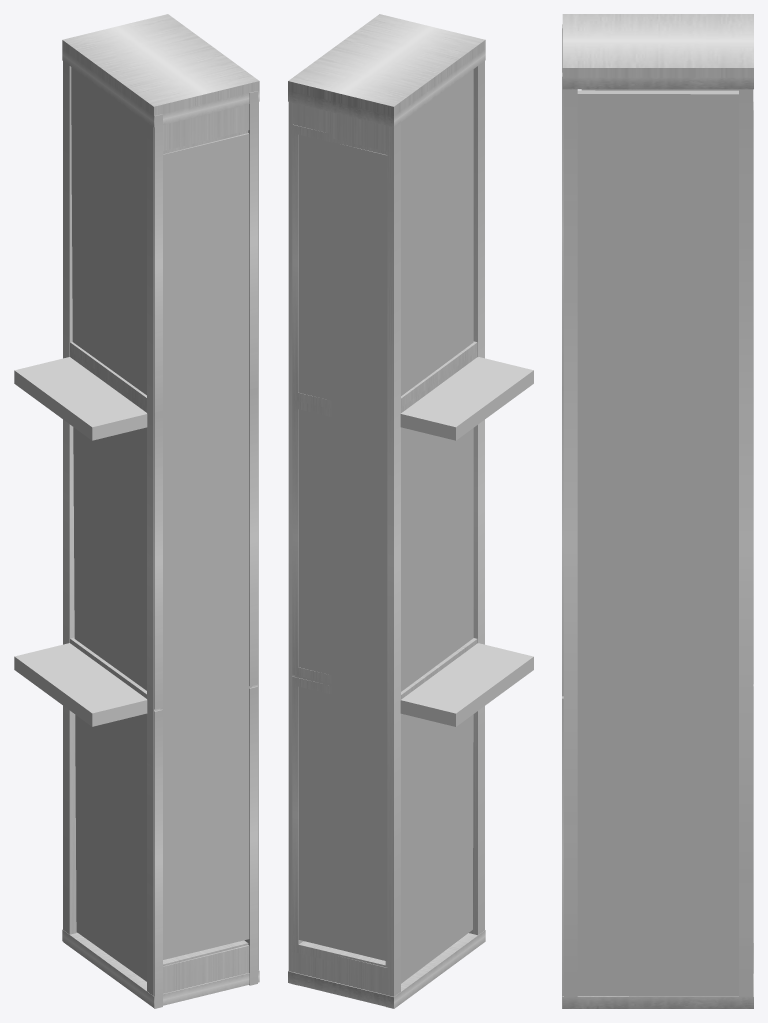
File: morris-shaft.glb
The picture shows the model from 3 angles, left to right: view 1: azimuth 30°, elevation 25°; view 2: azimuth 150°, elevation 25°; view 3: azimuth 270°, elevation 25°; orthographic projection. The views are drawn at different scales.
Parts seen in each view (by area): view 1: walls.001, frontcover, wallframe.001, ceiling.001, platform 2, Platform, backside-frame.011, backside-frame.010, floor.001, backside-frame.012, backside-frame.001, backside-frame.002 (+2 smaller); view 2: walls.001, frontcover, wallframe.001, ceiling.001, Platform, platform 2, floor.001, backside-frame.006, backside-frame.004, backside-frame.005, backside-frame.011, backside-frame.010; view 3: backside-wall.001, wallframe.001, ceiling.001, floor.001, backside-frame.002, backside-frame.001, backside-frame.003.
Boxes of the visible parts, x1,y1,x2,y2 form: walls.001: [160, 133, 252, 959]; frontcover: [71, 67, 146, 981]; wallframe.001: [63, 61, 258, 995]; ceiling.001: [62, 14, 259, 127]; platform 2: [14, 357, 147, 440]; Platform: [14, 643, 147, 726]; backside-frame.011: [70, 352, 162, 709]; backside-frame.010: [70, 114, 162, 412]; floor.001: [62, 929, 259, 1007]; backside-frame.012: [63, 709, 162, 1008]; backside-frame.001: [248, 686, 257, 985]; backside-frame.002: [249, 387, 257, 686]; walls.001: [295, 135, 387, 961]; frontcover: [401, 69, 473, 983]; wallframe.001: [288, 61, 484, 996]; ceiling.001: [288, 14, 485, 127]; Platform: [400, 643, 533, 726]; platform 2: [400, 357, 533, 440]; floor.001: [288, 930, 485, 1008]; backside-frame.006: [292, 676, 386, 967]; backside-frame.004: [292, 124, 386, 409]; backside-frame.005: [292, 400, 332, 683]; backside-frame.011: [401, 351, 477, 699]; backside-frame.010: [386, 151, 477, 407]; backside-wall.001: [577, 90, 738, 996]; wallframe.001: [563, 89, 753, 996]; ceiling.001: [562, 14, 753, 89]; floor.001: [562, 943, 753, 1008]; backside-frame.002: [562, 386, 563, 696]; backside-frame.001: [562, 696, 563, 1008]; backside-frame.003: [562, 72, 563, 386].
Size of the model in its own units: 5.54 by 29.72 by 5.49.
Materials: 14 (13 with a texture image).
